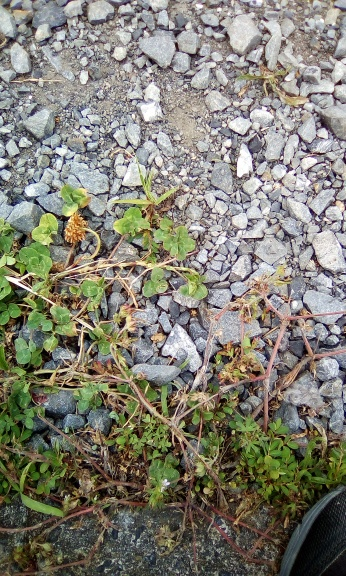4leaf: (161, 225, 196, 264)
